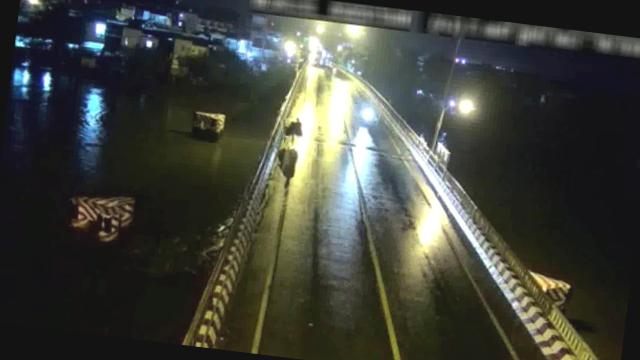Bike: (278, 115, 304, 147), (358, 103, 381, 124)
